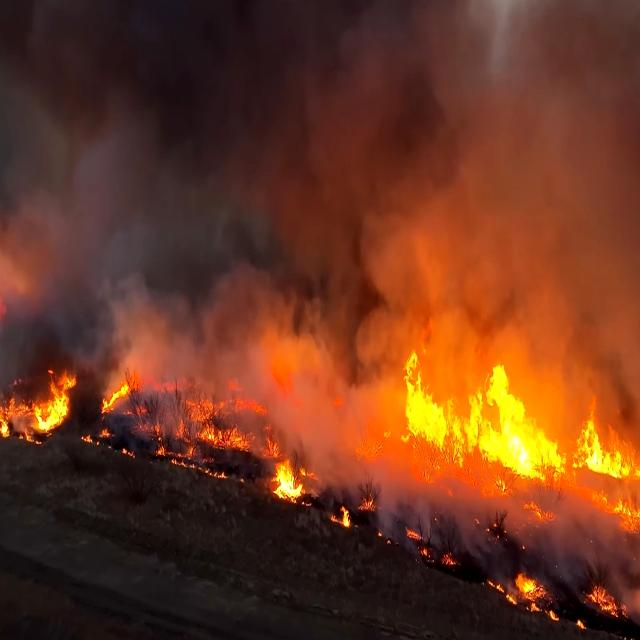smoke: (0, 0, 438, 200), (387, 0, 640, 325), (395, 350, 544, 465)
